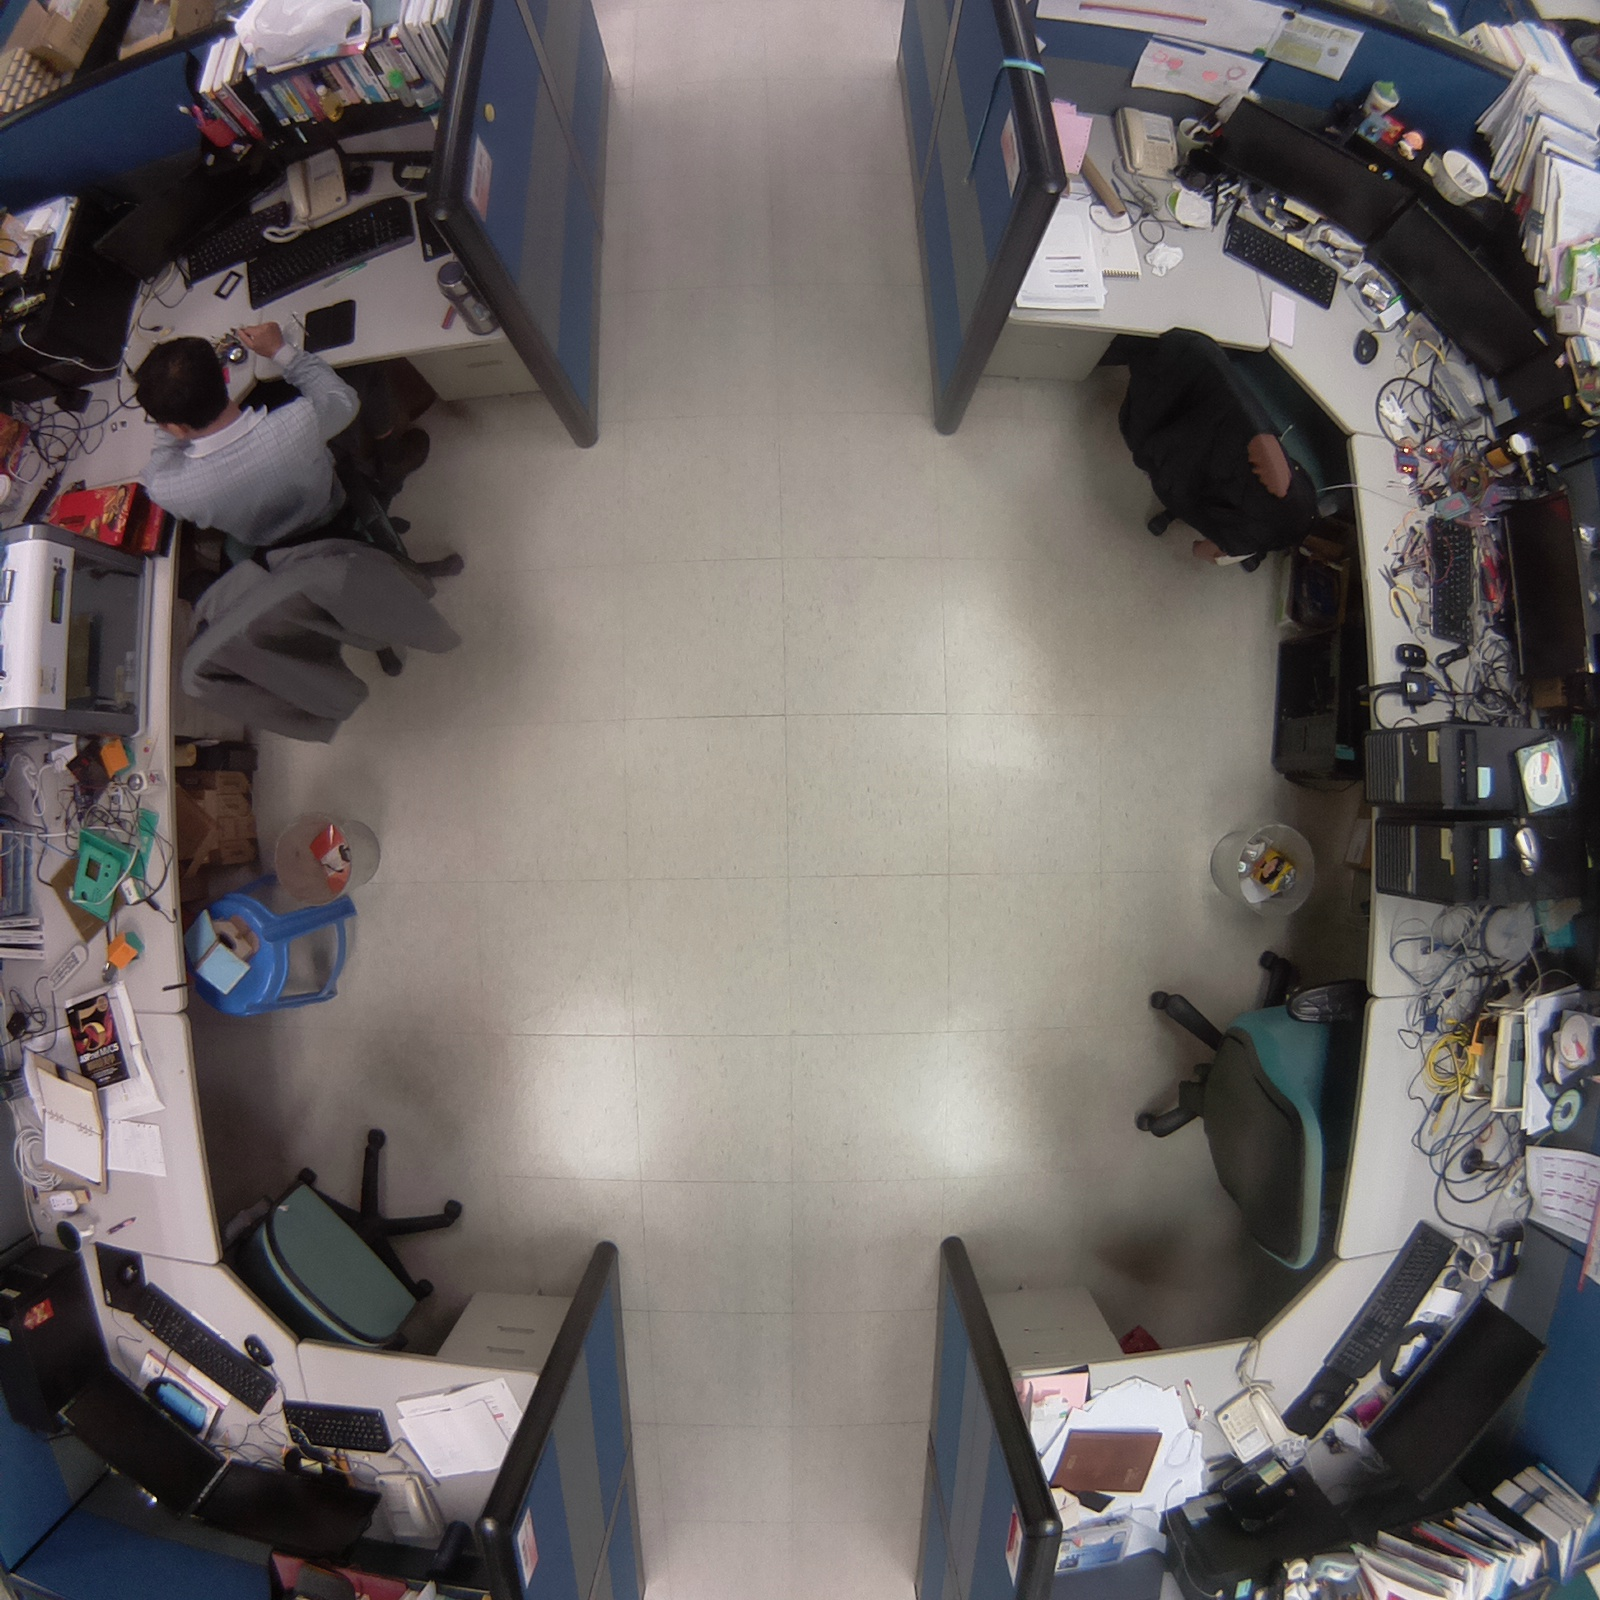chair: (1117, 927, 1368, 1286), (204, 1111, 488, 1373), (1112, 299, 1365, 586)
head: (123, 329, 242, 446)
sitting: (124, 326, 488, 752)
